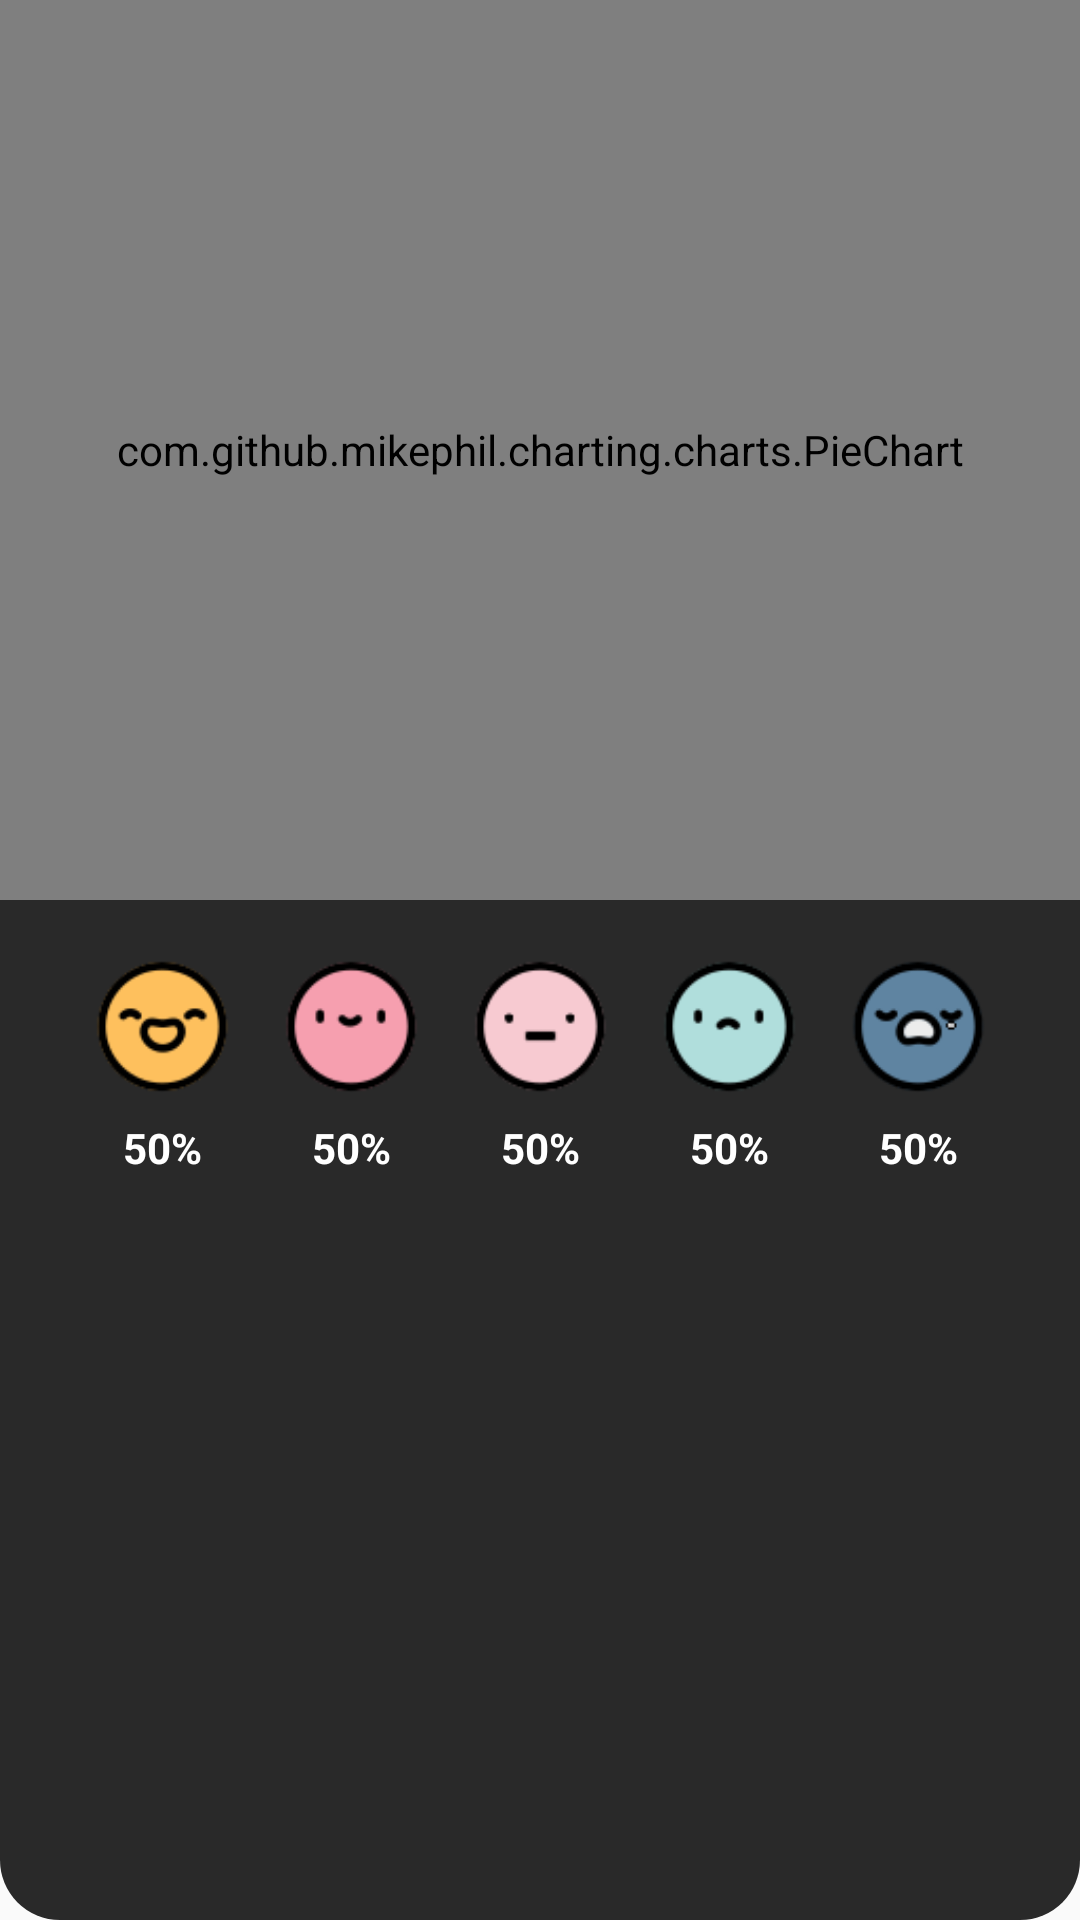

Point at icon controls on the screen. Image size 1080x1920, points as point (x, y).
happy: point (351, 1026)
no emotion: point (540, 1026)
sad: point (729, 1026)
super happy: point (162, 1026)
super sad: point (918, 1026)
